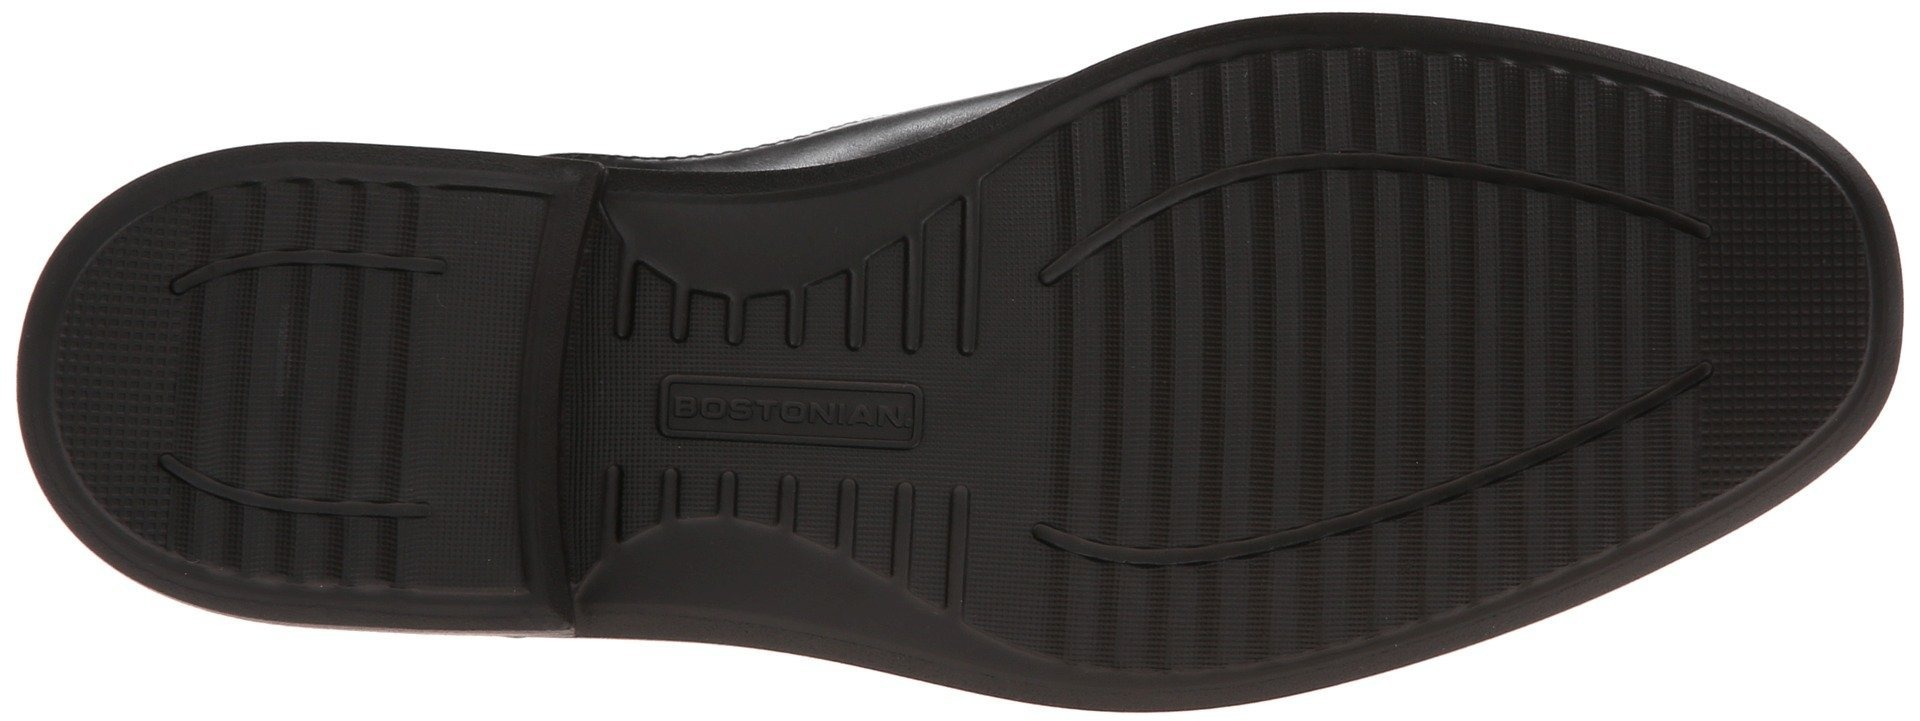circle: (636, 308, 934, 521)
line: (636, 308, 934, 521), (1022, 271, 1280, 518), (1277, 197, 1542, 428), (176, 266, 411, 502), (1273, 1, 1442, 187), (1316, 501, 1473, 677)
quad: (636, 308, 934, 521), (1273, 1, 1442, 187), (640, 356, 936, 450), (1316, 501, 1473, 677), (278, 124, 433, 278), (1701, 203, 1858, 353), (71, 305, 167, 430)
text: (636, 308, 934, 521), (824, 383, 904, 463), (666, 375, 742, 449), (749, 383, 811, 454)
